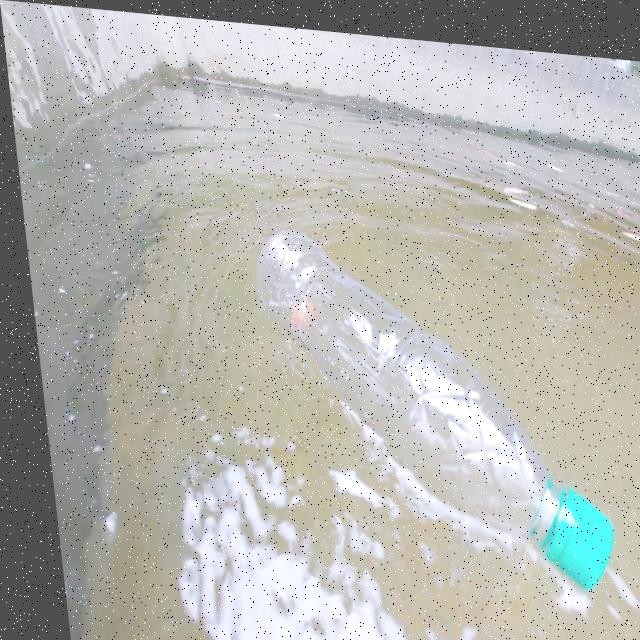waterbottle: (211, 221, 616, 602)
